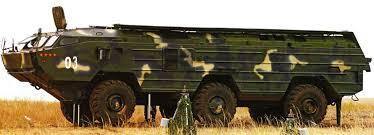rszo: (1, 10, 374, 128)
